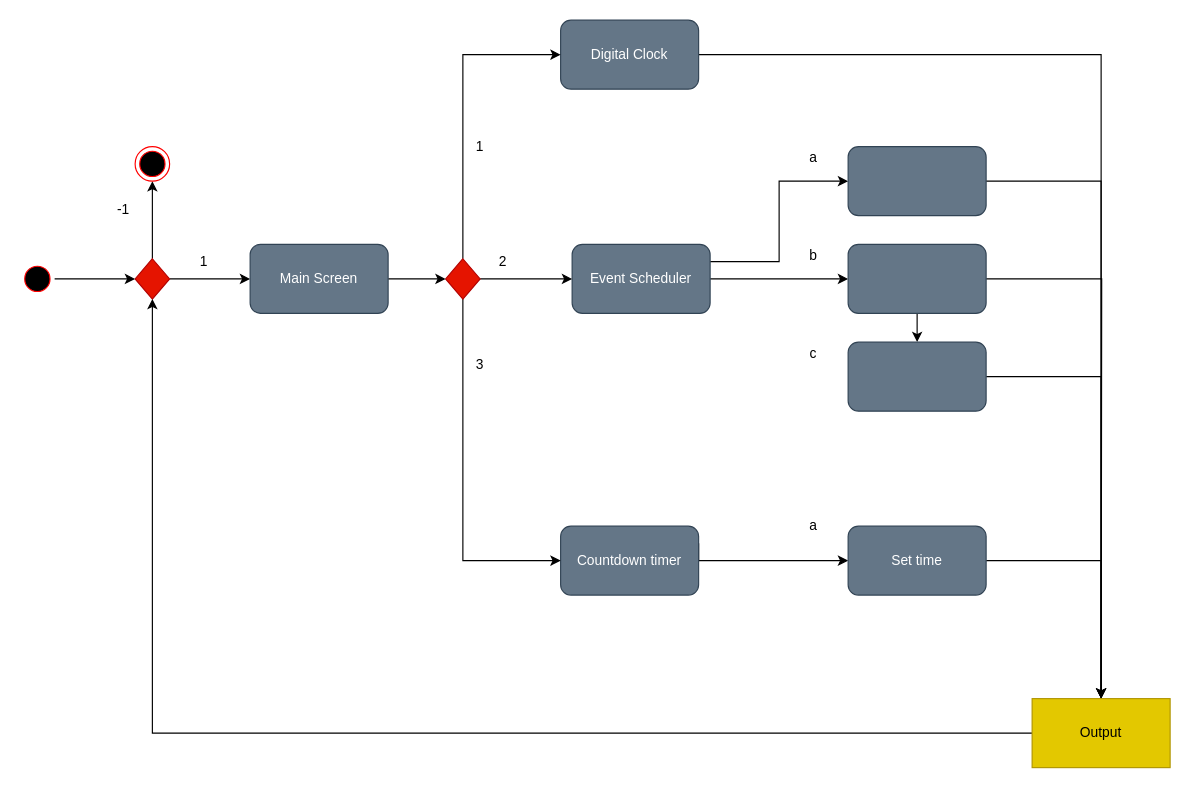
Some shapes in this 1190 by 788 pixel diagram are drawn without their labels. The centre of each missing label's shape, as x and y in pixels:
Add event: pixel 916 180
Log event: pixel 916 376
Print event: pixel 916 278
